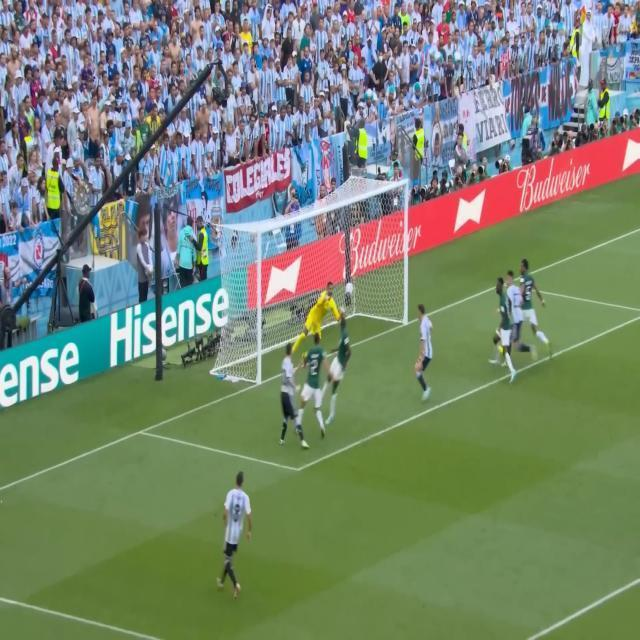player: (287, 273, 355, 359), (220, 461, 253, 607), (517, 252, 553, 370), (484, 265, 515, 389), (330, 310, 357, 441), (280, 339, 308, 453), (301, 329, 329, 436), (510, 254, 524, 361)
